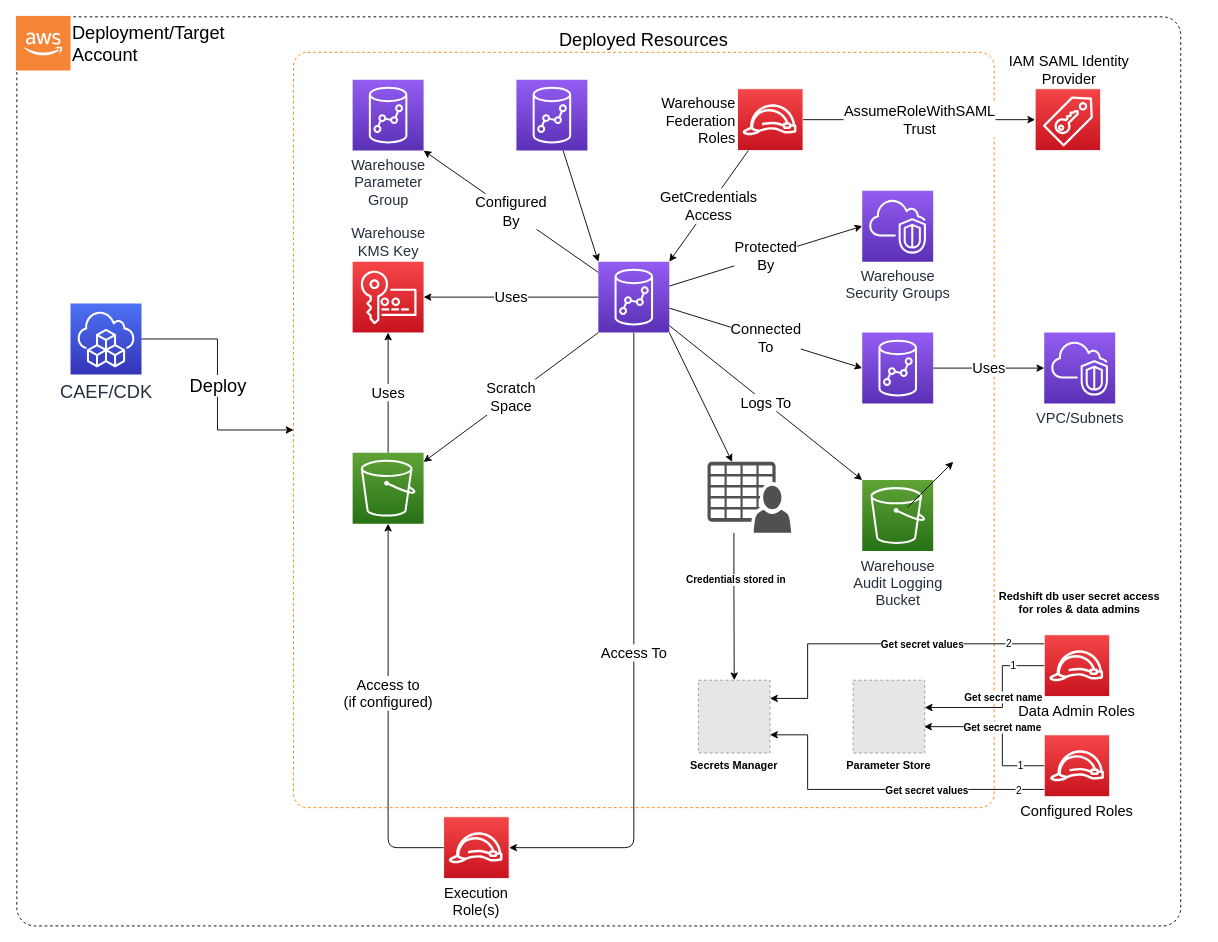
Image size: 1218x942. Some labels were removed from this diagram. Grey dashed boxes stand in for pictures. The shapes that lost their labels are listed below. From the top down, each one's box as (x1, y1, x2, y2) in pixels, then its label:
(516, 79, 587, 151): Redshift Scheduled Action
(597, 261, 669, 333): Redshift Cluster
(861, 332, 933, 404): Warehouse Subnet Group
(352, 452, 424, 524): Warehouse Bucket
(707, 461, 791, 532): DB Users
